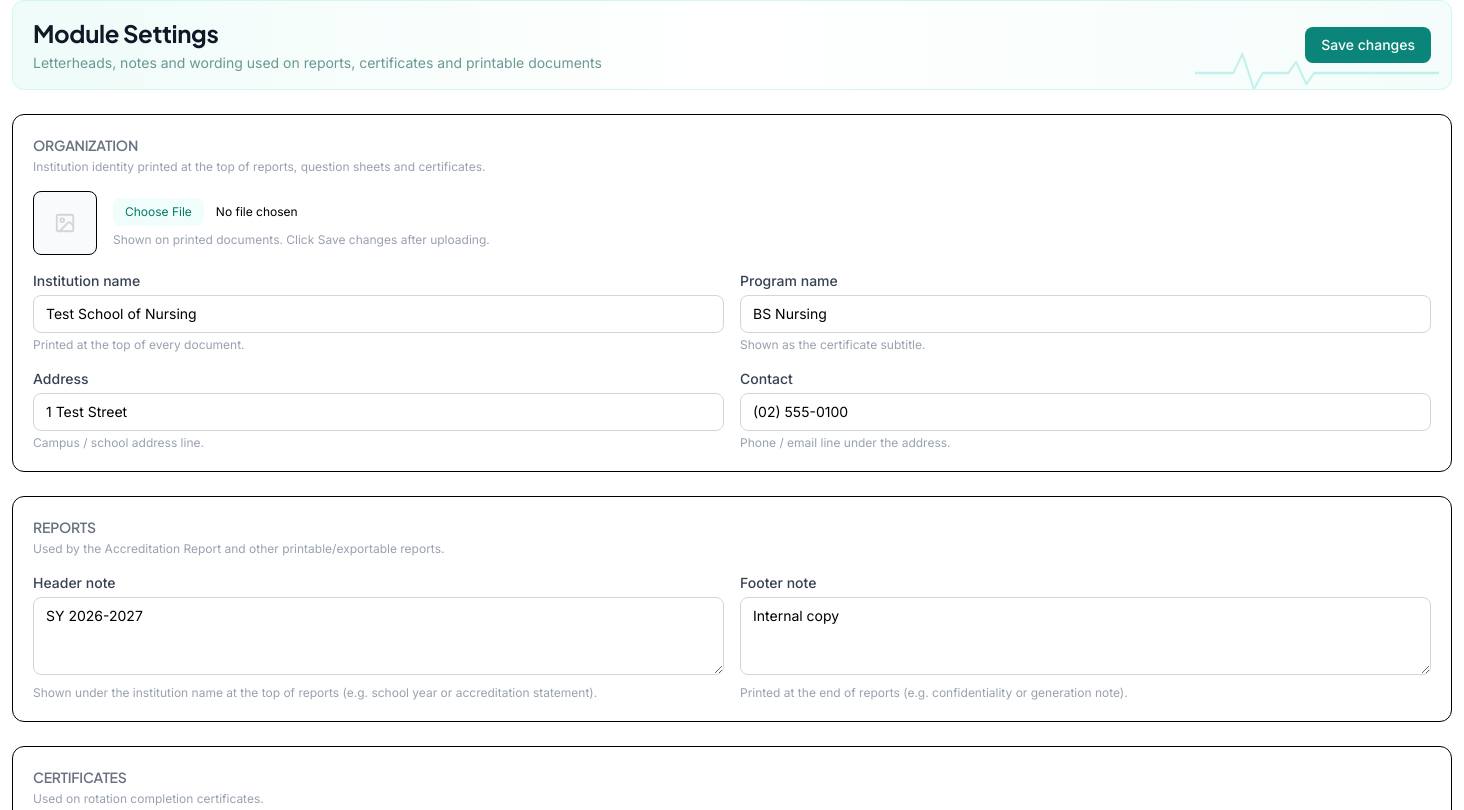
it: ModuleSettingsPage › requires an institution name before saving
This screenshot has width=1464, height=810.
Clear the field labelled "Institution name". click: {"x": 378, "y": 314}
box: [33, 295, 724, 333]
(page scrolled)
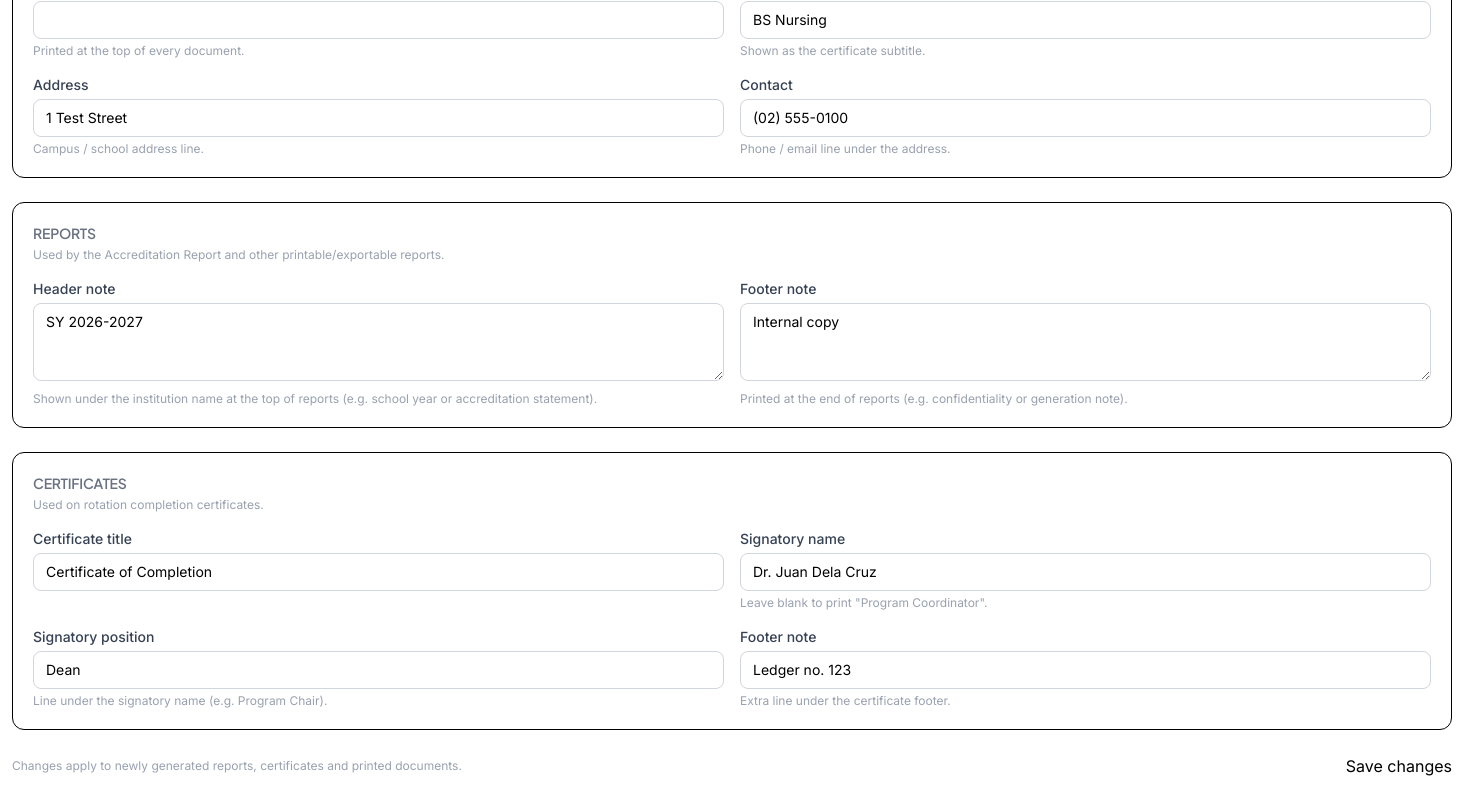
Click the button "Save changes". click: {"x": 1399, "y": 766}
box: [1346, 754, 1452, 778]
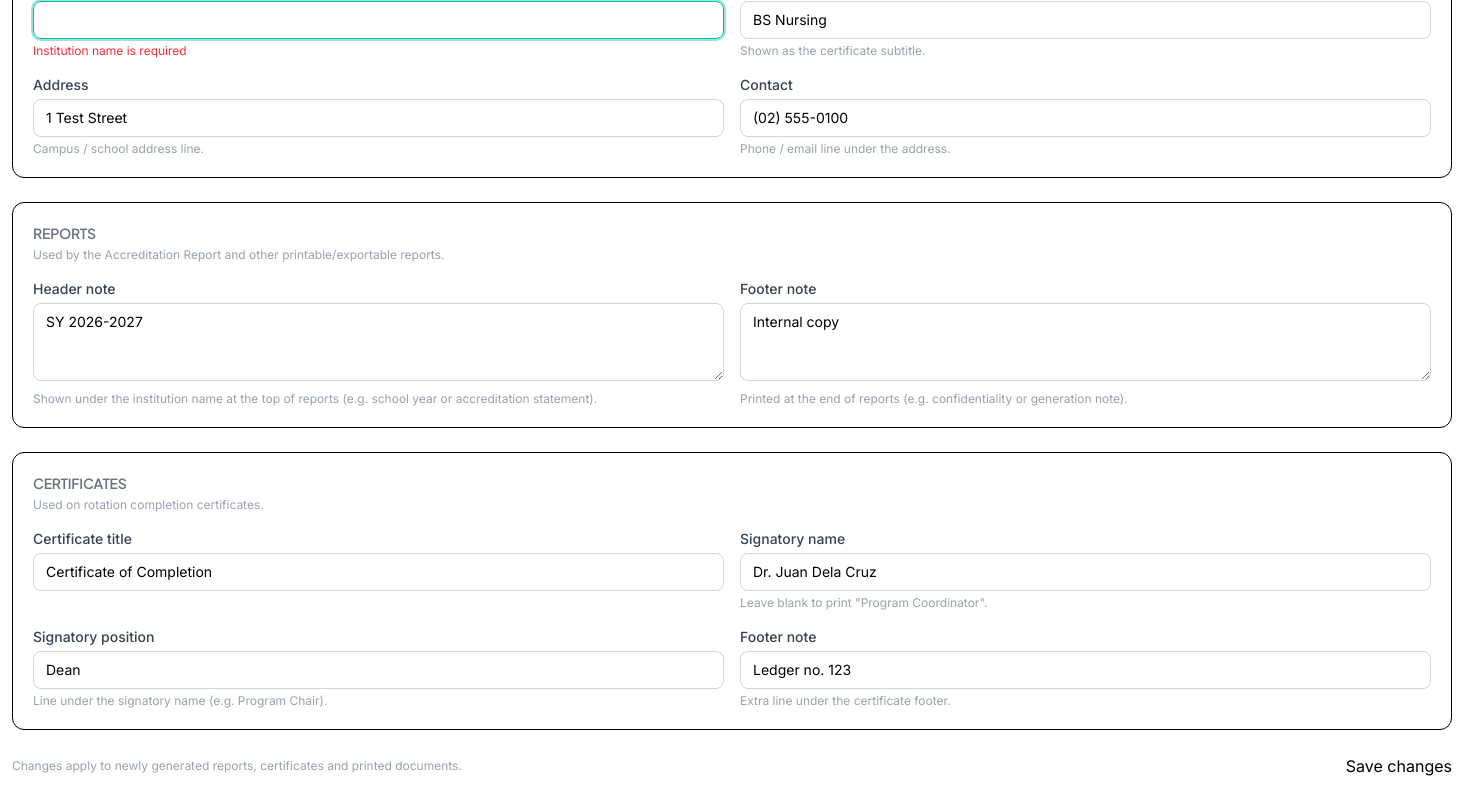
Expected: the text "Institution name is required" is shown, [33, 43, 187, 58]
